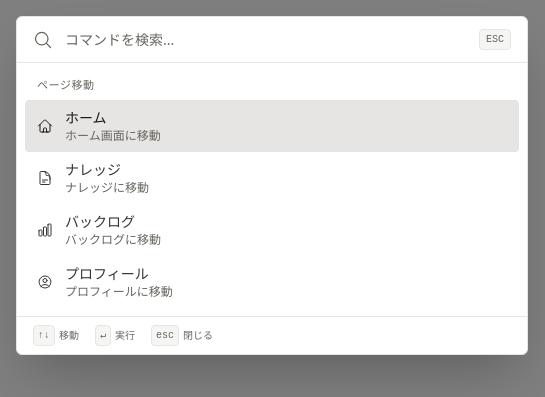
Scenario: CommandPalette › 検索入力で絞り込みができる
In the field with placeholder "コマンドを検索...": (266, 40) [65,30,467,50], type "ナレッジ"
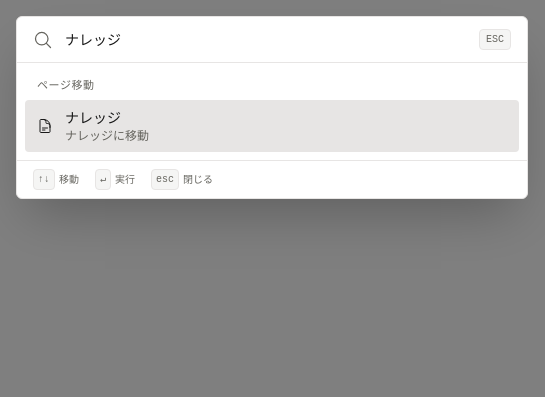
Expected: the text "ナレッジ" is shown, [65,108,121,126]
Expected: the option "ホーム" is gone
